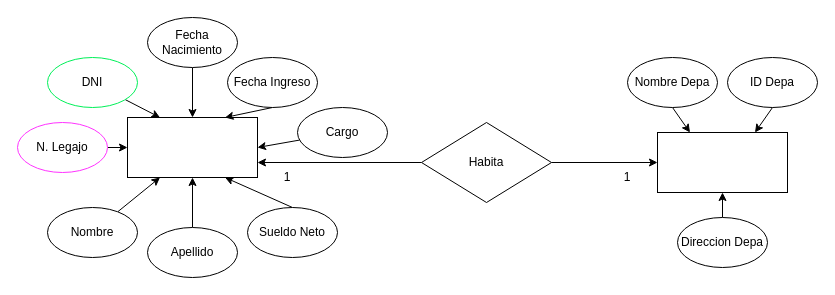
The diagram is 835 pixels wide and 295 high, and some of its shapes have lost their labels. The shapes that lost their labels are listed below. From the top down, each one's box as (x1, y1, x2, y2) in pixels, then its label:
(126, 116, 258, 178): Empleados
(656, 132, 788, 192): Departamentos
